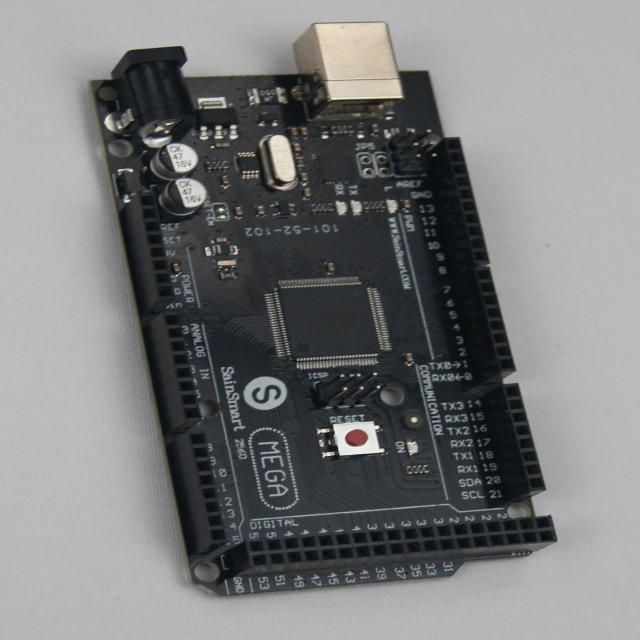Arduino Mega 2560 -Black-: (94, 23, 556, 595)
